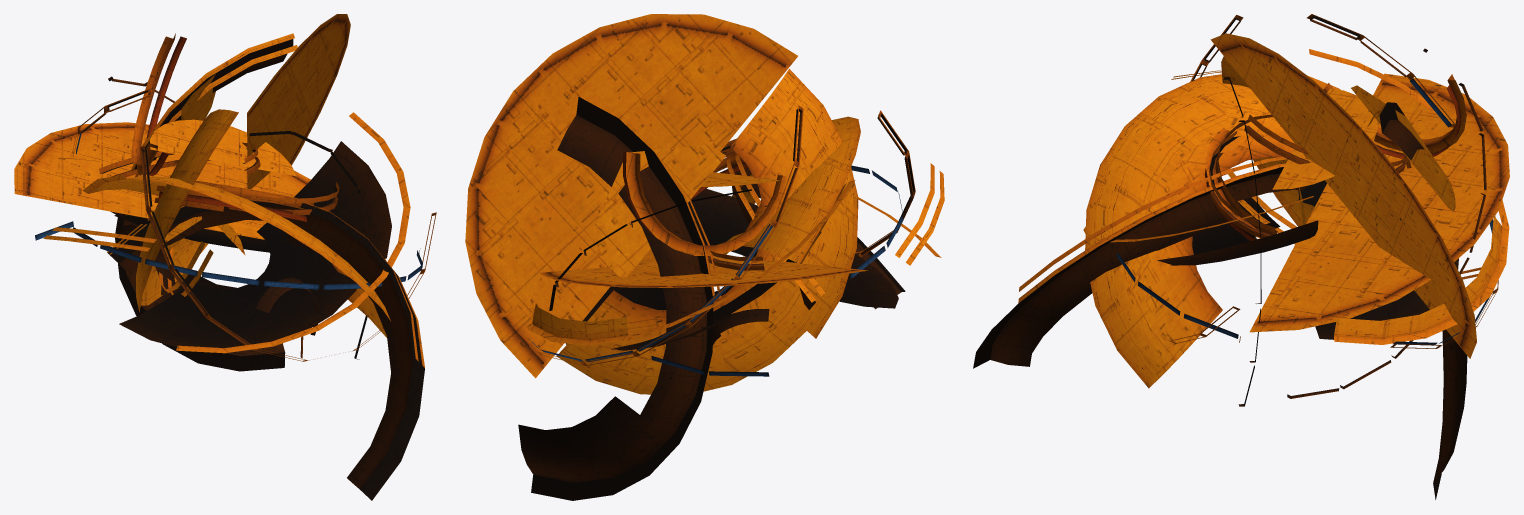
File: MonsterB_Die4.obj
The picture shows the model from 3 angles, left to right: view 1: azimuth 30°, elevation 25°; view 2: azimuth 150°, elevation 25°; view 3: azimuth 270°, elevation 25°; orthographic projection. The views are drawn at different scales.
Parts seen in each view (by area): view 1: Sphere001; view 2: Sphere001; view 3: Sphere001.
Boxes of the visible parts, left/top/right/bottom form: Sphere001: left=14, top=14, right=436, bottom=500; Sphere001: left=465, top=14, right=944, bottom=500; Sphere001: left=973, top=14, right=1509, bottom=499.
Bounding box in the file's own units: 211 × 229 × 261.
1 material, 1 textured.
